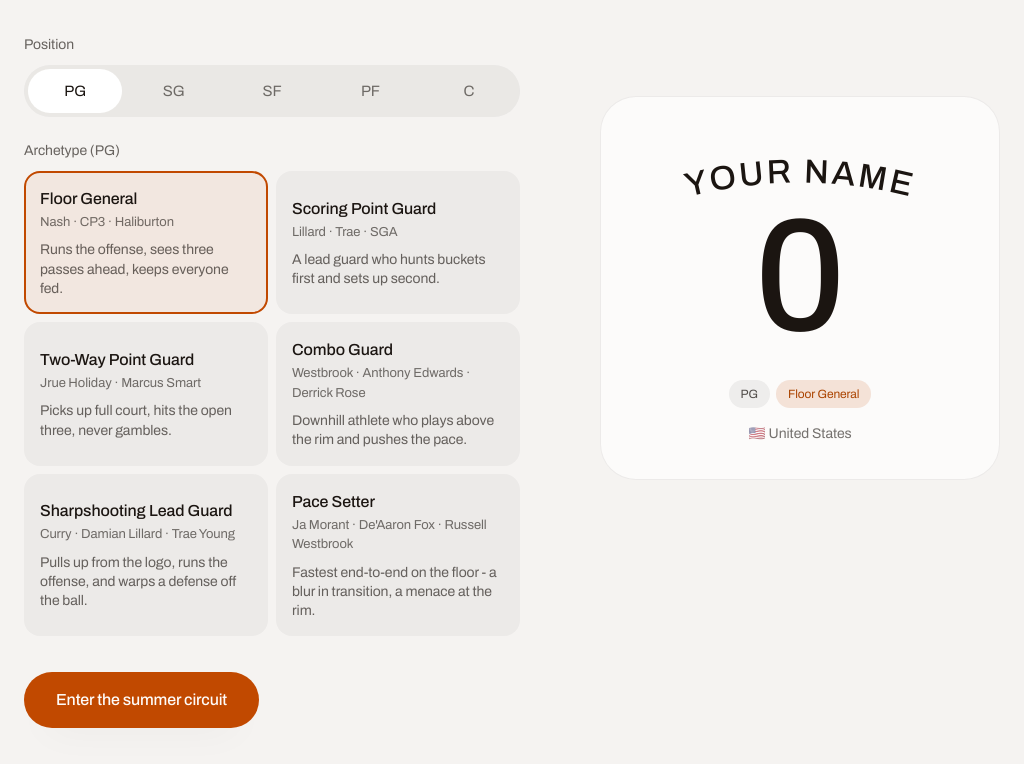
Scenario: <CreatePlayer /> › shows a friendly error (not a raw zod string) when the name is empty
(page scrolled)
Click the button "Enter the summer circuit" at (142, 700), box [24,672,259,728]
(page scrolled)
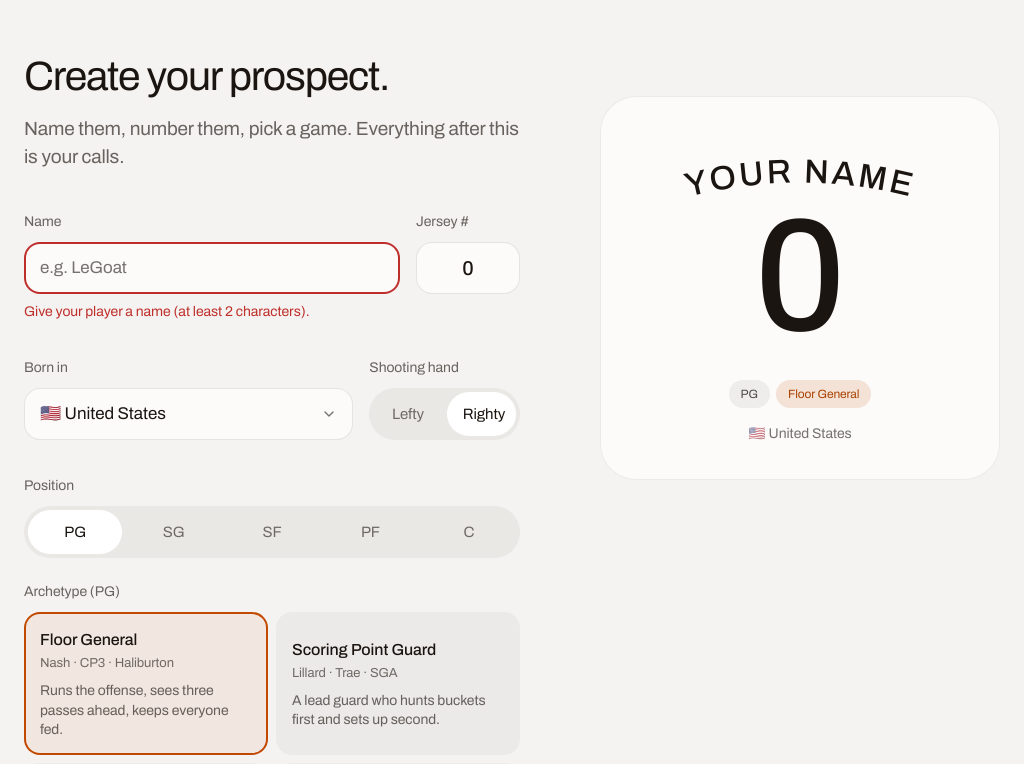
Result: the text "Give your player a name (at least 2 characters)." is shown at [24,304,309,319]
